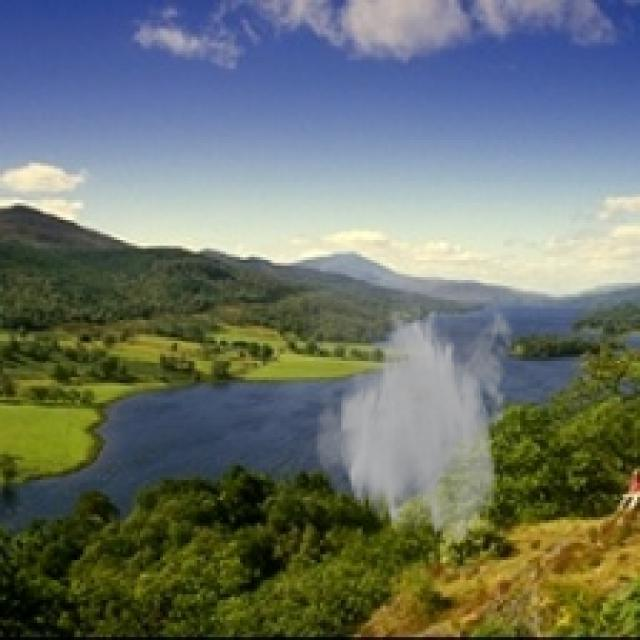Smoke: (309, 282, 520, 548)
